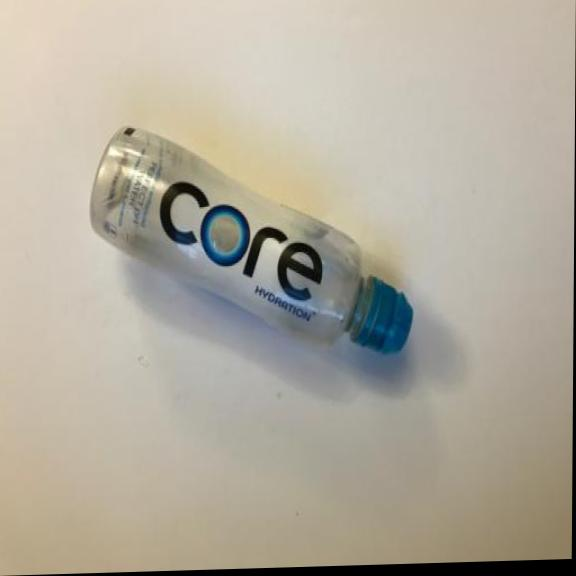Plastik: (86, 108, 420, 368)
